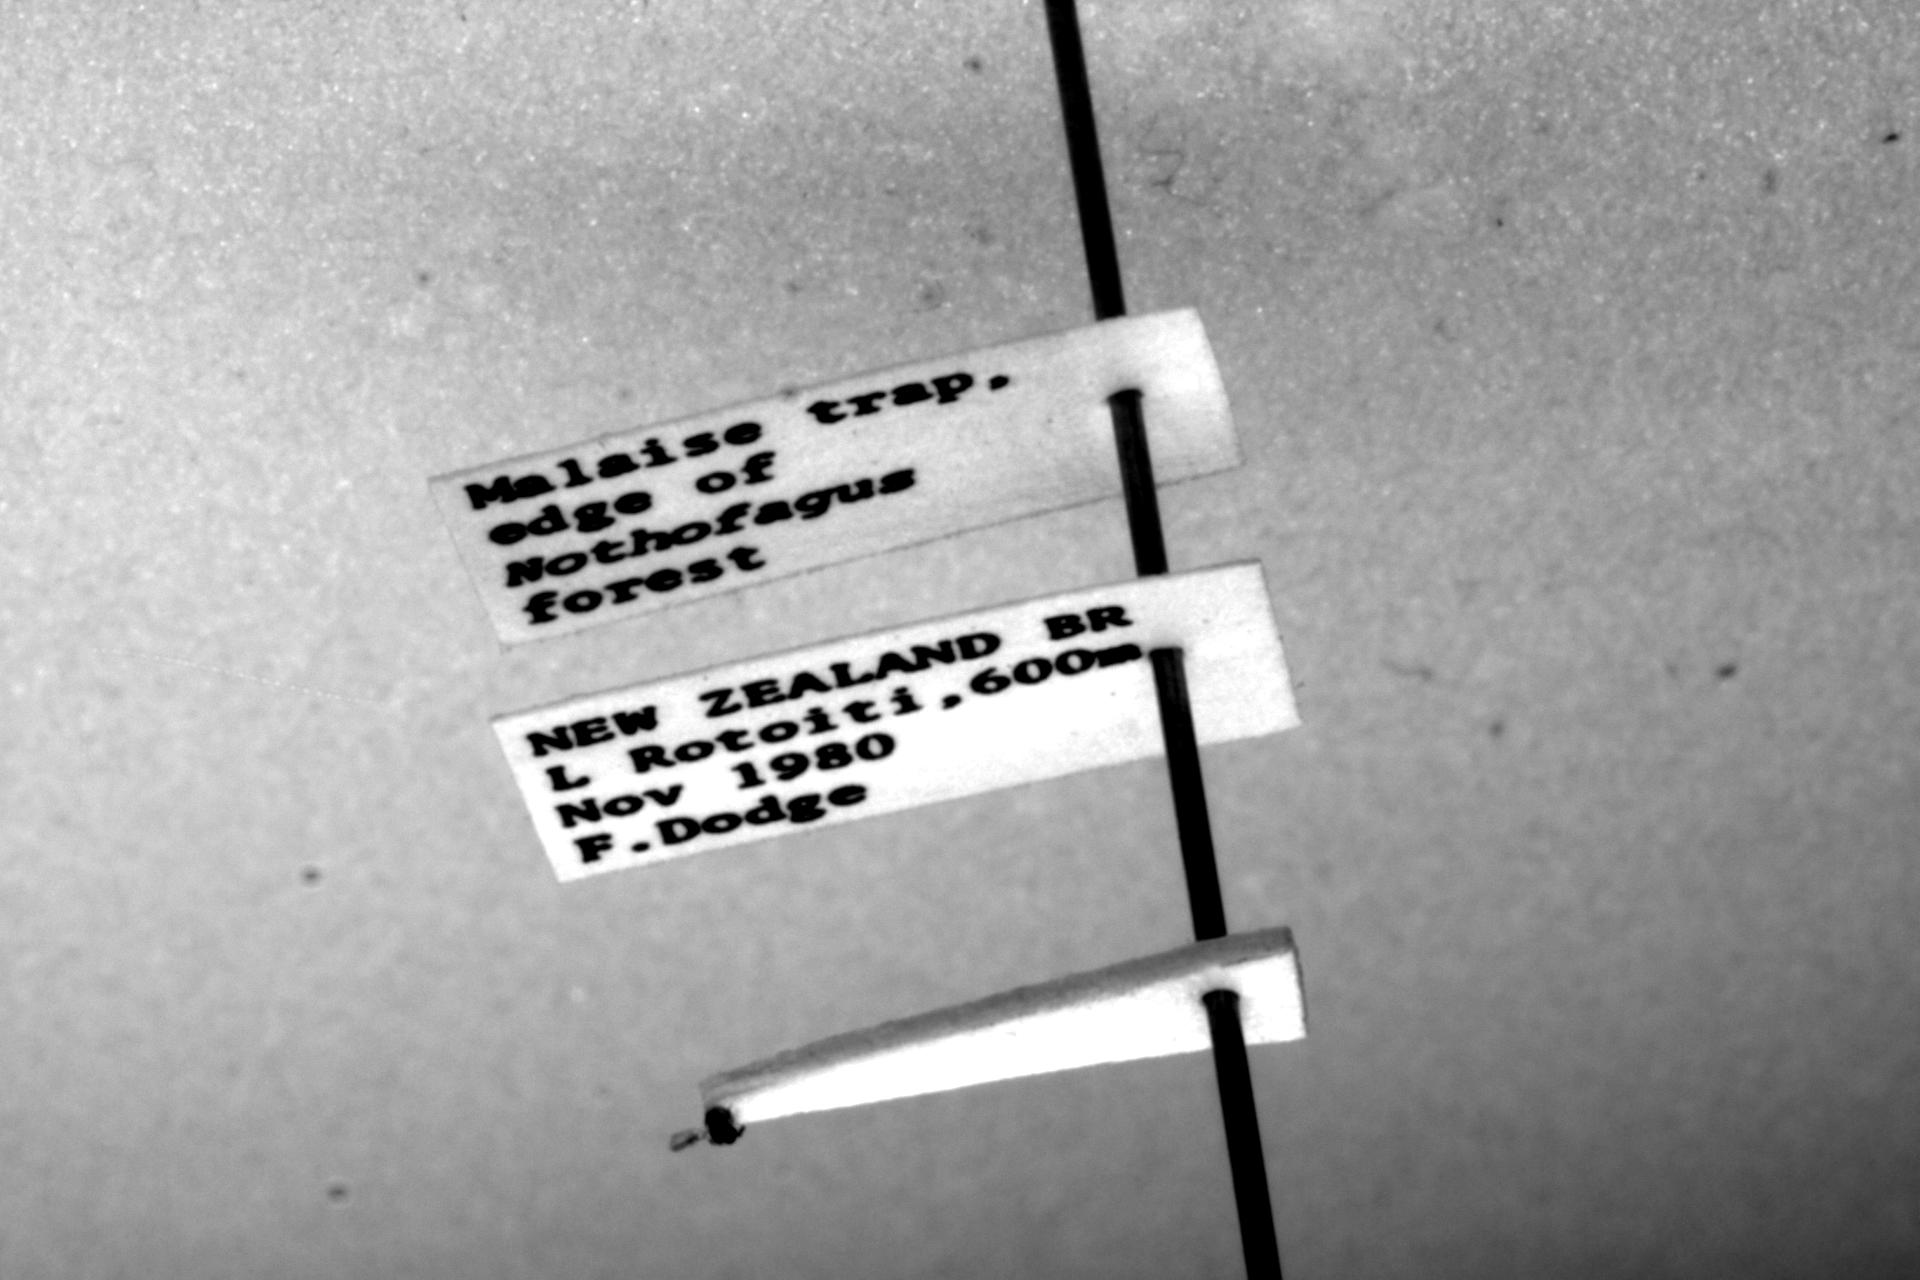typed_label: (431, 307, 1241, 646), (494, 563, 1297, 881)
